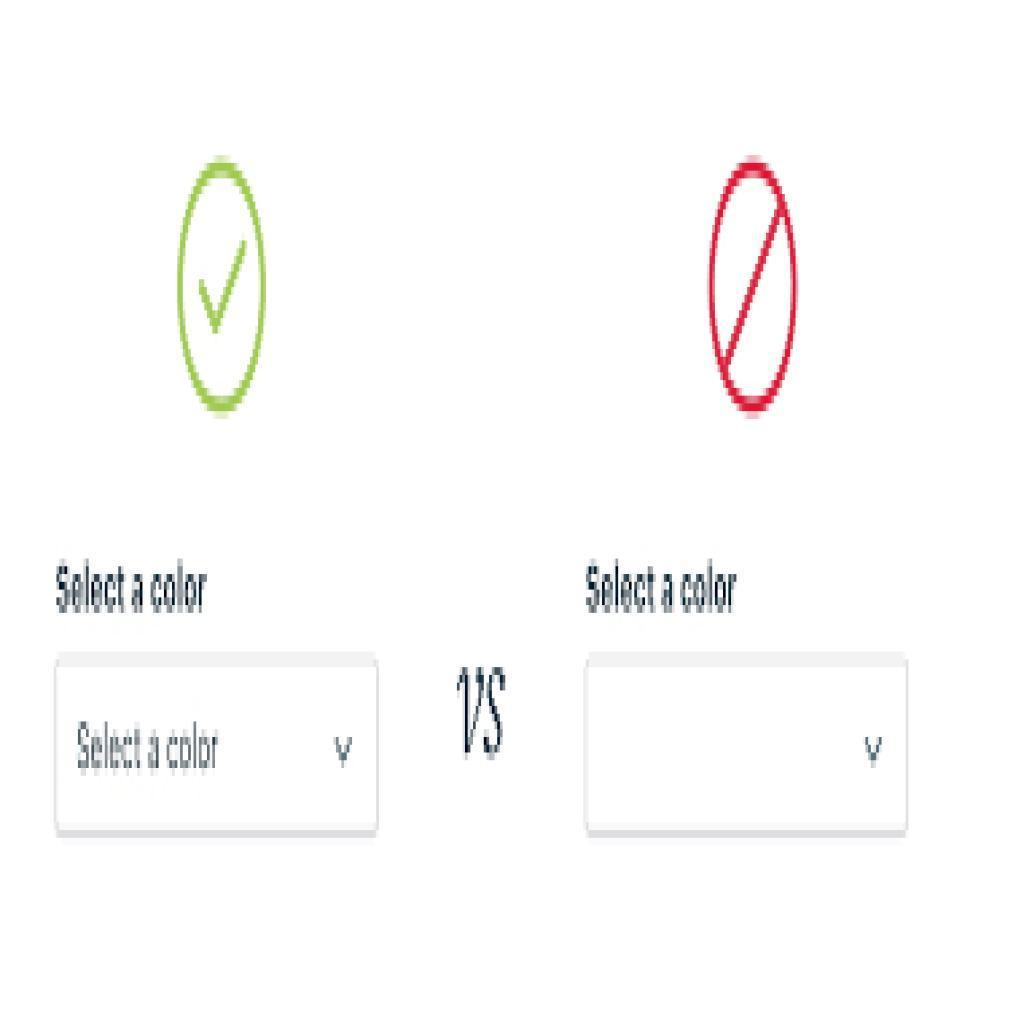dropdown: (55, 661, 379, 834), (588, 661, 907, 834)
